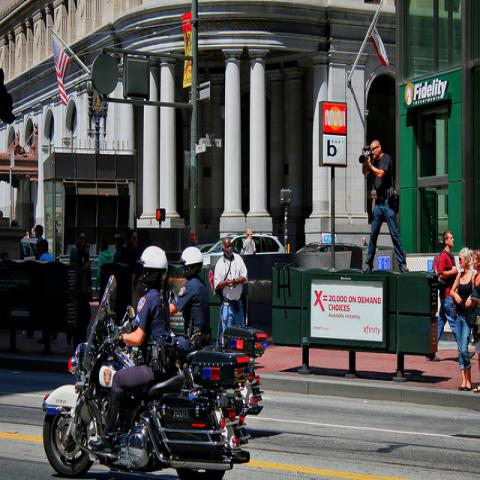car: (198, 228, 284, 264), (296, 241, 363, 269), (21, 238, 37, 260), (198, 242, 218, 252), (29, 233, 38, 240)
motorcycle: (41, 276, 253, 480), (169, 292, 267, 379)
